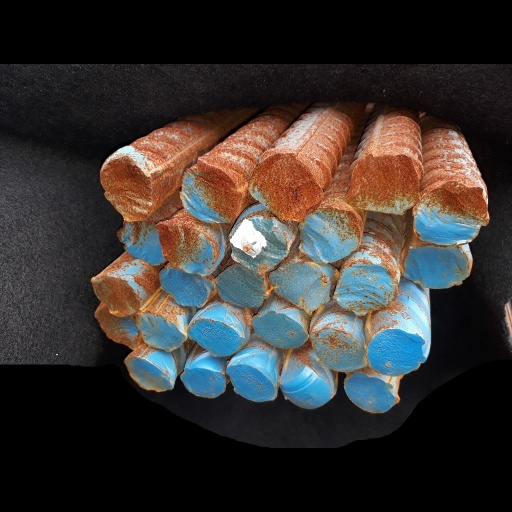dipstick: (249, 154, 322, 219), (415, 182, 487, 244), (351, 155, 418, 214), (180, 165, 237, 223), (160, 221, 222, 274), (299, 210, 359, 263), (101, 159, 152, 219), (230, 218, 287, 269), (404, 245, 470, 288), (270, 262, 330, 309), (334, 266, 396, 311), (366, 328, 426, 373), (312, 328, 367, 371), (253, 310, 309, 350), (217, 265, 267, 308), (189, 318, 242, 356), (278, 371, 331, 409), (344, 375, 397, 413), (162, 268, 216, 305), (117, 220, 162, 264), (226, 363, 276, 402), (136, 312, 186, 350), (122, 356, 172, 394), (91, 276, 139, 315), (94, 310, 137, 350), (181, 366, 226, 400)
